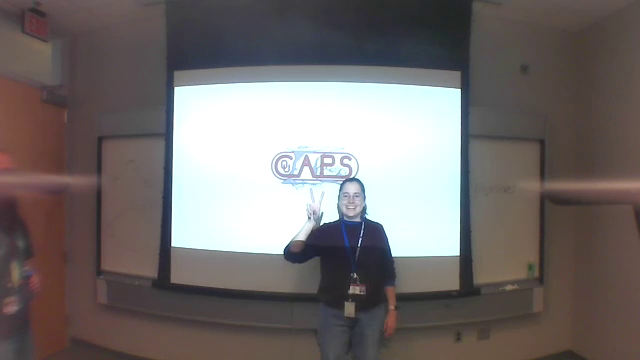peace: (306, 185, 327, 223)
